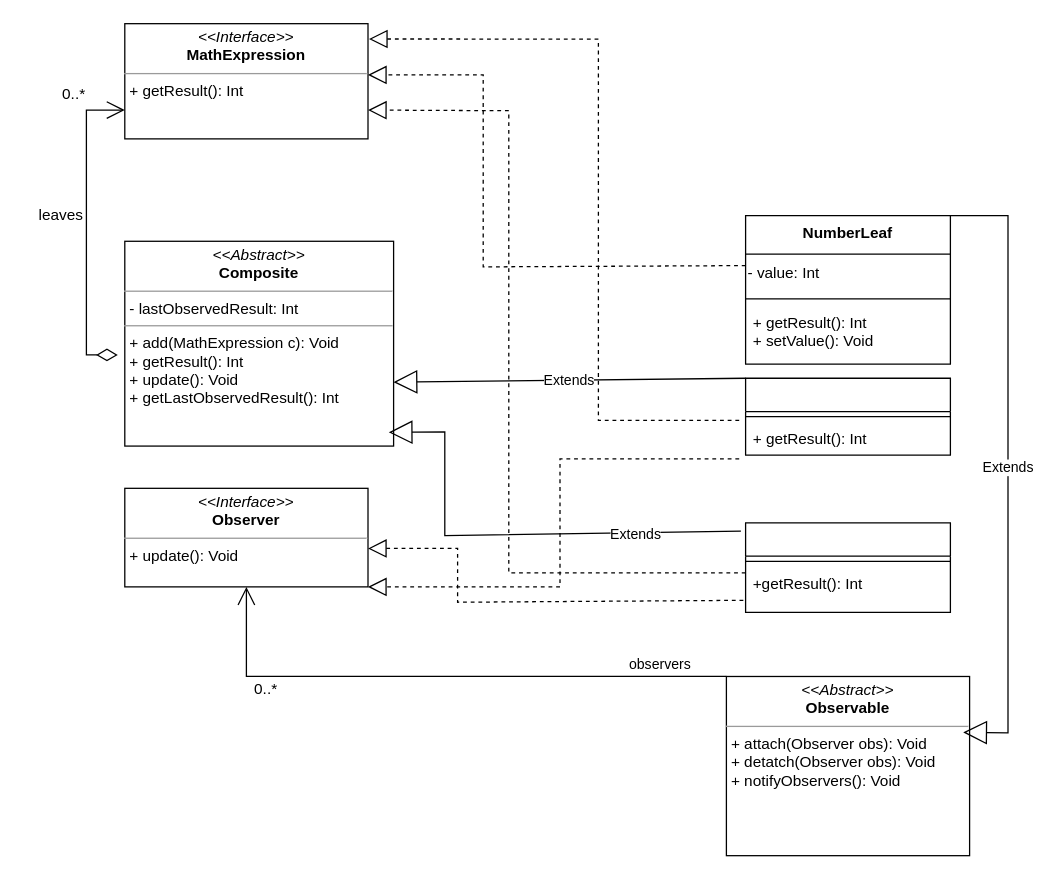
The diagram is 1055 pixels wide and 879 high, and some of its shapes have lost their labels. The box of each missing label's shape, as (x1, y1, x2, y2) in pixels:
MultiplyComposite: (744, 522, 950, 612)
PlusComposite: (744, 377, 950, 455)
